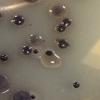black: (0, 72, 10, 96), (10, 90, 32, 100), (11, 13, 26, 27), (55, 38, 71, 49), (21, 45, 33, 57), (55, 23, 67, 33), (61, 17, 72, 27), (71, 79, 81, 89), (0, 52, 9, 63), (29, 36, 39, 45), (31, 47, 40, 56), (21, 0, 41, 4), (54, 7, 63, 15), (45, 49, 54, 57), (29, 93, 37, 100), (0, 9, 3, 21)
